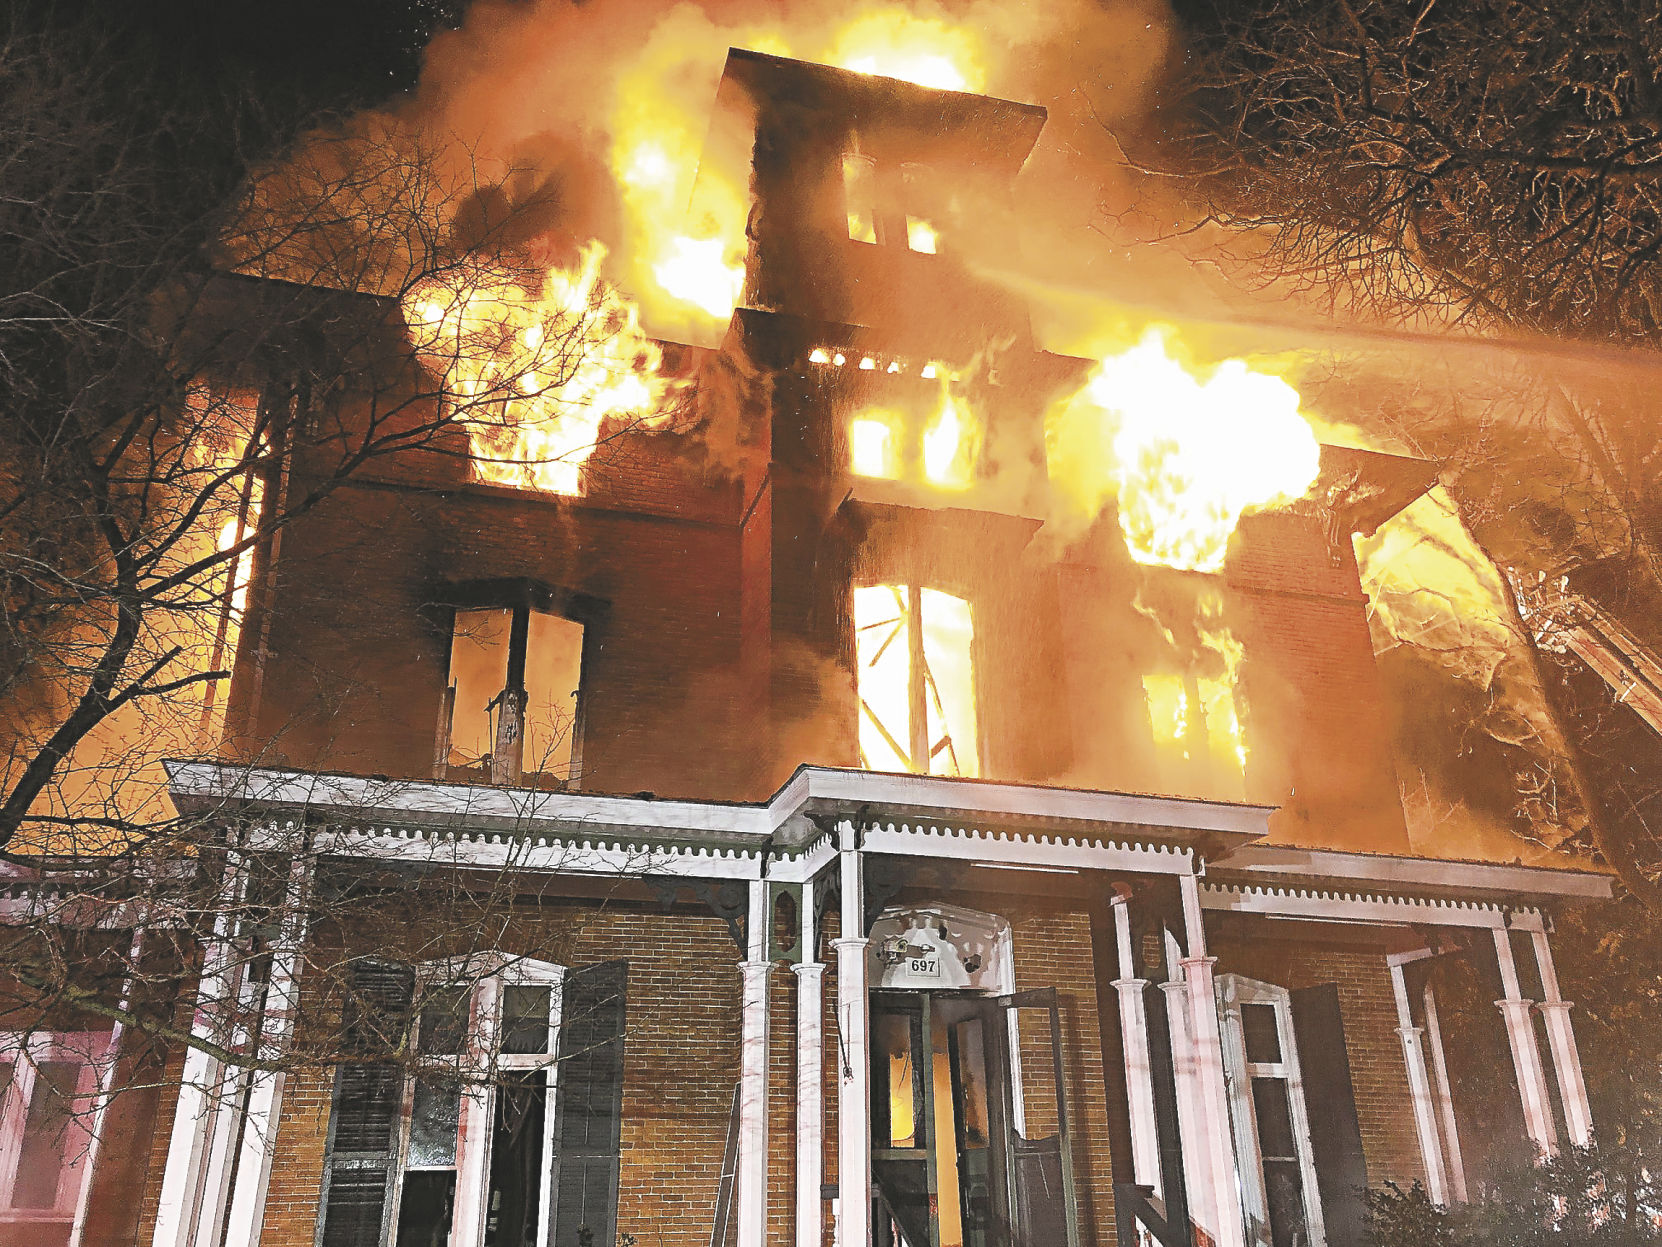Fire: (415, 248, 661, 517), (1084, 324, 1325, 579), (604, 56, 743, 347)
